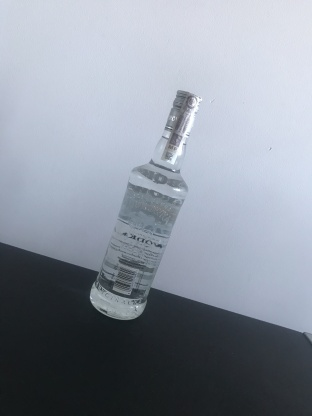nakretka: (162, 86, 204, 141)
